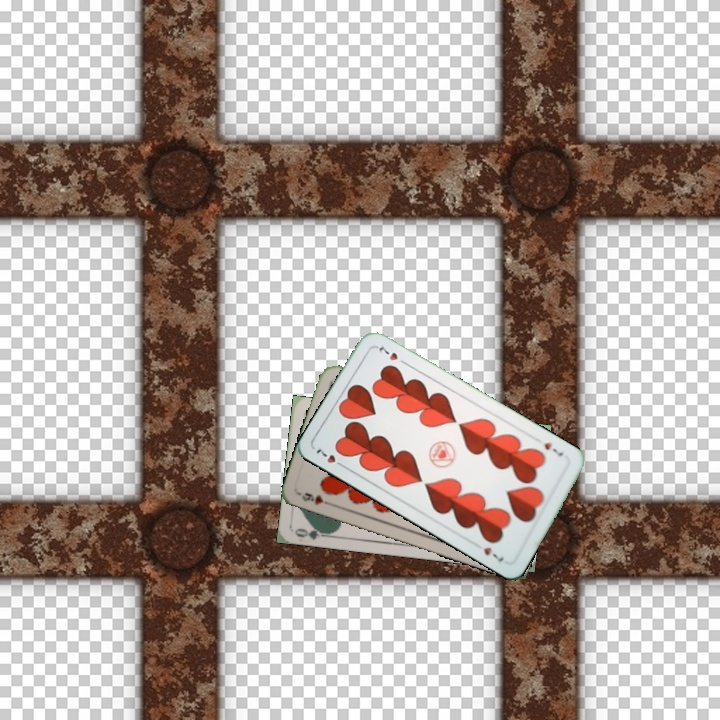GO: (292, 522, 333, 542)
H7: (312, 444, 348, 470), (540, 438, 566, 459)
H9: (298, 488, 335, 508)
